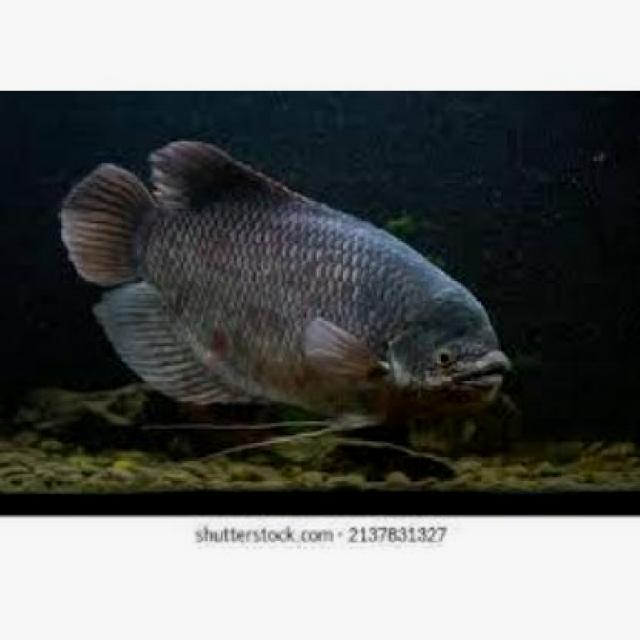gurame: (62, 140, 516, 417)
